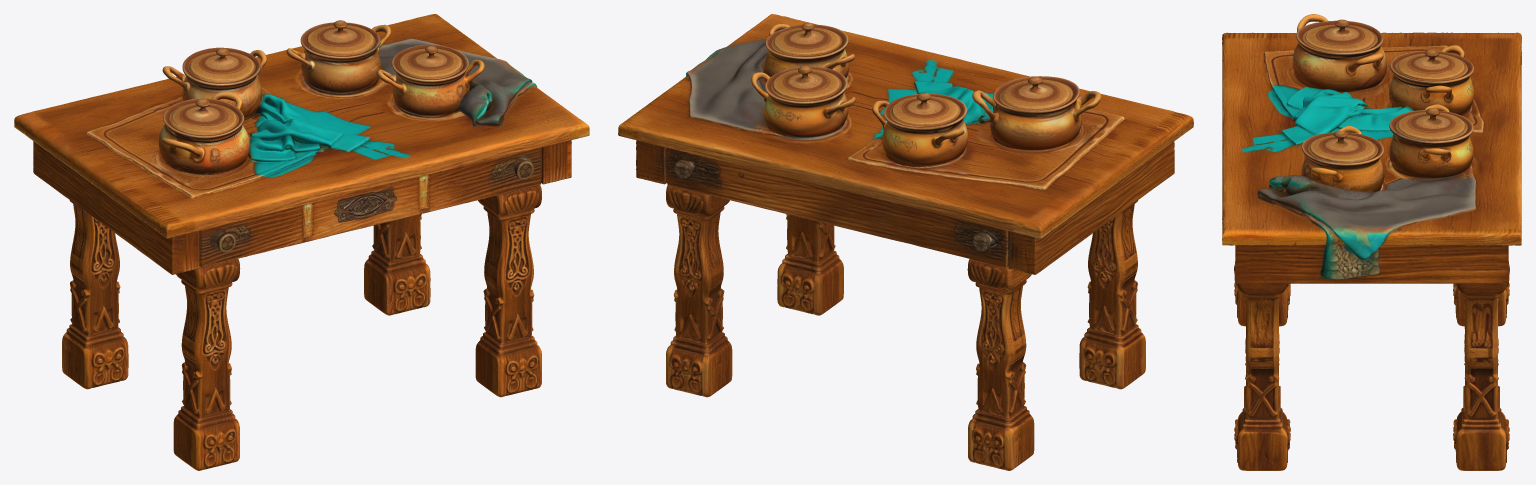
File: env_kit_counter_draco.glb
3 renders of one model, left to right at view 1: azimuth 30°, elevation 25°; view 2: azimuth 150°, elevation 25°; view 3: azimuth 270°, elevation 25°, orthographic.
Bounding box in the file's own units: 1.9 × 1.35 × 1.16.
1 material, 1 textured.
